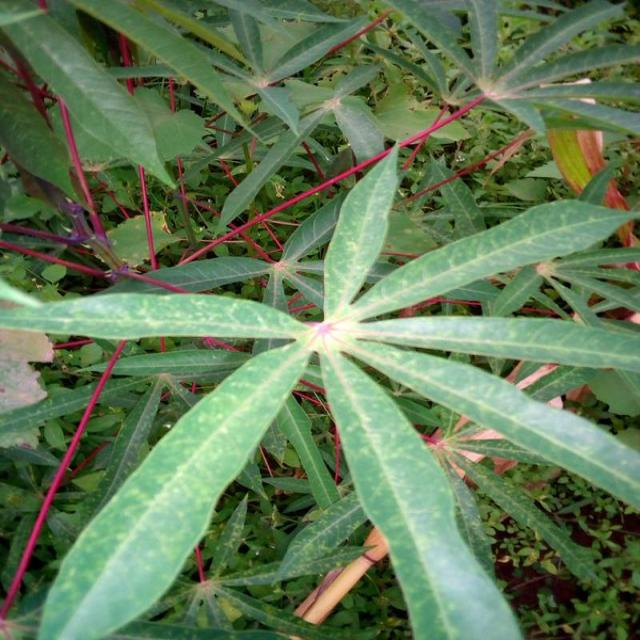cassava leaf: (20, 140, 638, 638), (37, 337, 312, 638), (318, 342, 523, 638)
